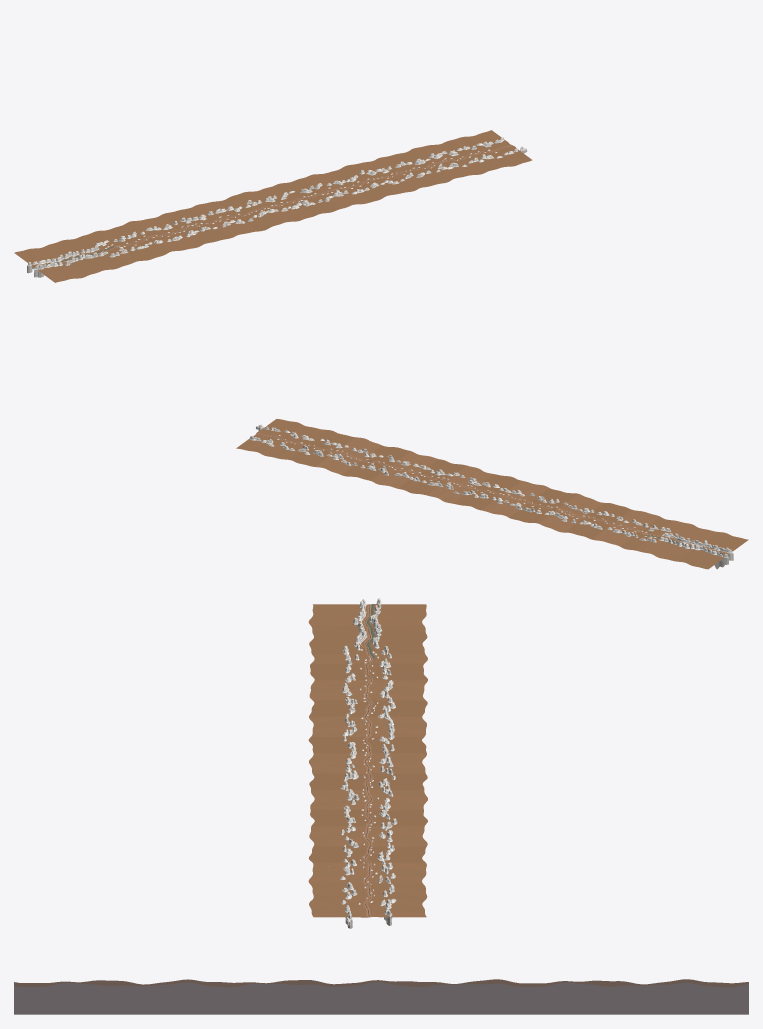
File: moab.glb
3 renders of one model, top to bottom at view 1: azimuth 30°, elevation 25°; view 2: azimuth 150°, elevation 25°; view 3: azimuth 270°, elevation 25°, orthographic. The views are drawn at different scales.
Parts seen in each view (by area): view 1: no part large enough to name; view 2: DesertSoil_013; view 3: Peaks, DesertSoil_034, DesertSoil_013, DesertSoil_009, DesertSoil_052, DesertSoil_048, DesertSoil_026, DesertSoil_021, DesertSoil_042, DesertSoil_047, DesertSoil_046, DesertSoil_000 (+5 smaller).
Boxes of the visible parts, x1=… form: DesertSoil_013: x1=581, y1=520, x2=618, y2=541; Peaks: x1=14, y1=979, x2=748, y2=1014; DesertSoil_034: x1=357, y1=791, x2=427, y2=808; DesertSoil_013: x1=357, y1=672, x2=427, y2=688; DesertSoil_009: x1=358, y1=651, x2=427, y2=667; DesertSoil_052: x1=309, y1=895, x2=380, y2=909; DesertSoil_048: x1=308, y1=872, x2=390, y2=885; DesertSoil_026: x1=313, y1=749, x2=426, y2=762; DesertSoil_021: x1=313, y1=719, x2=426, y2=730; DesertSoil_042: x1=313, y1=839, x2=427, y2=850; DesertSoil_047: x1=312, y1=870, x2=426, y2=881; DesertSoil_046: x1=312, y1=862, x2=426, y2=870; DesertSoil_000: x1=312, y1=604, x2=426, y2=610.
Size of the model in its own units: 16900 by 1204 by 12445.
